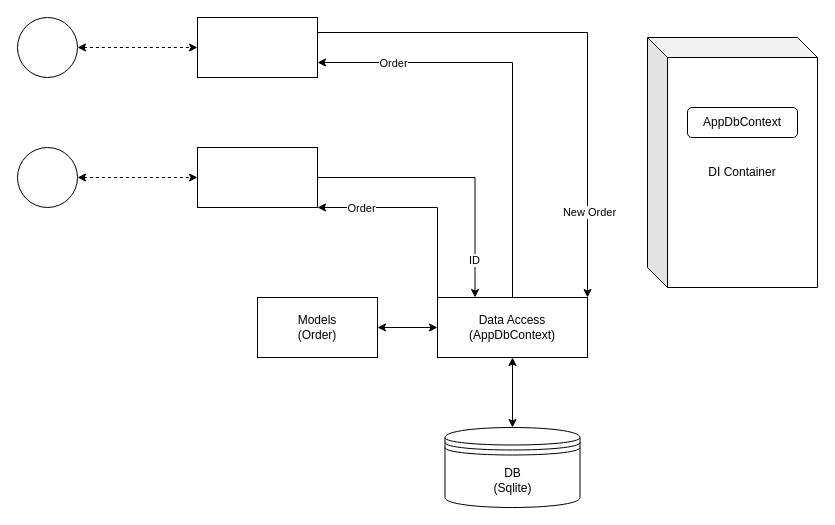
This 835x525 diagram has some shape labels left out. The centre of each missing label's shape, as x and y in pixels:
GET /api/orders/{id}: the point at 257,177
POST /api/orders: the point at 257,47
